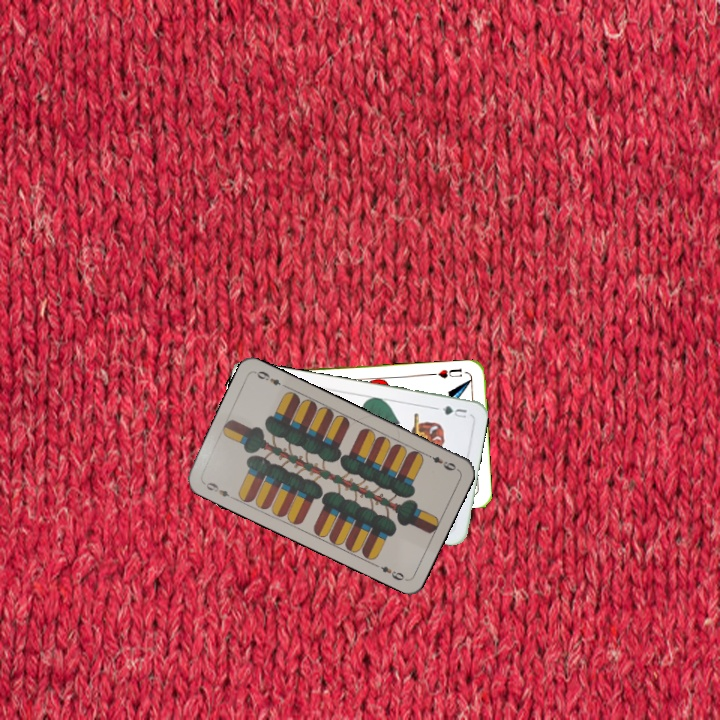E9: (199, 478, 237, 502), (422, 450, 460, 473)
GU: (438, 402, 469, 420)
HU: (429, 365, 464, 381)
